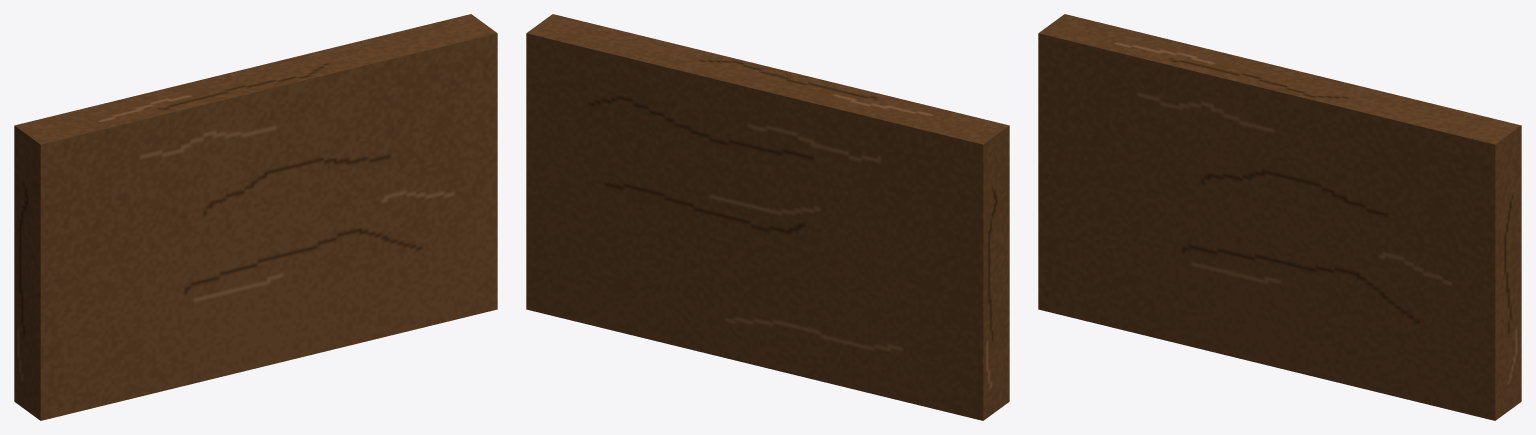
File: huśtawka_1.fbx
The picture shows the model from 3 angles, left to right: view 1: azimuth 30°, elevation 25°; view 2: azimuth 150°, elevation 25°; view 3: azimuth 330°, elevation 25°; orthographic projection.
Parts seen in each view (by area): view 1: Cube; view 2: Cube; view 3: Cube.
Boxes of the visible parts, x1,y1,x2,y2 form: Cube: (14,14,497,420); Cube: (526,14,1009,420); Cube: (1038,14,1521,420).
Size of the model in its own units: 1003 by 580 by 100.
